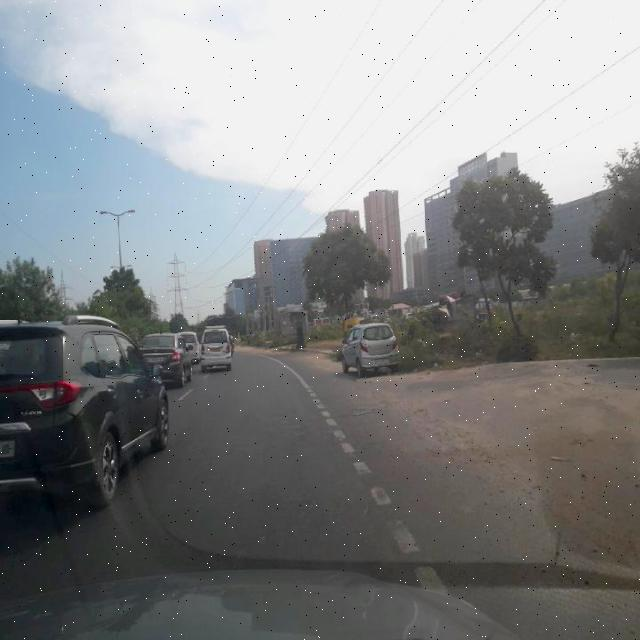D20: (154, 447, 458, 578)
